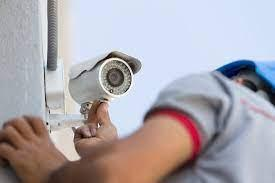tutu: (66, 43, 147, 114)
